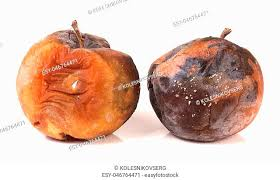damaged_apple: (18, 32, 144, 146), (151, 39, 266, 147)
